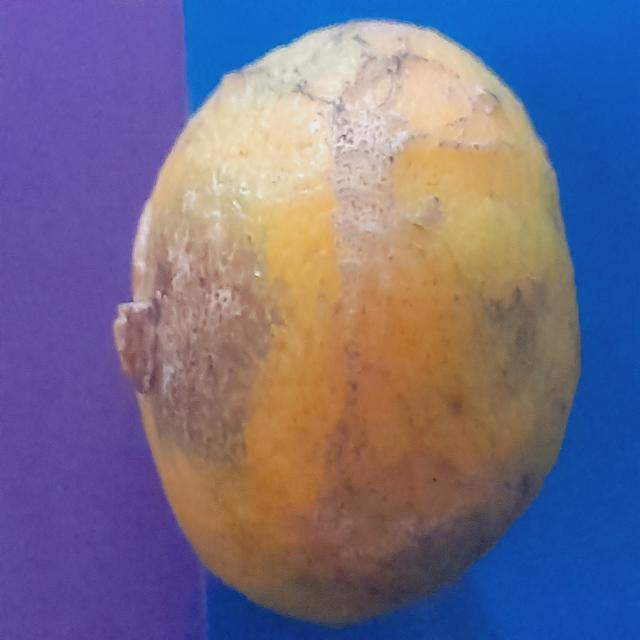thrips: (131, 4, 592, 640)
